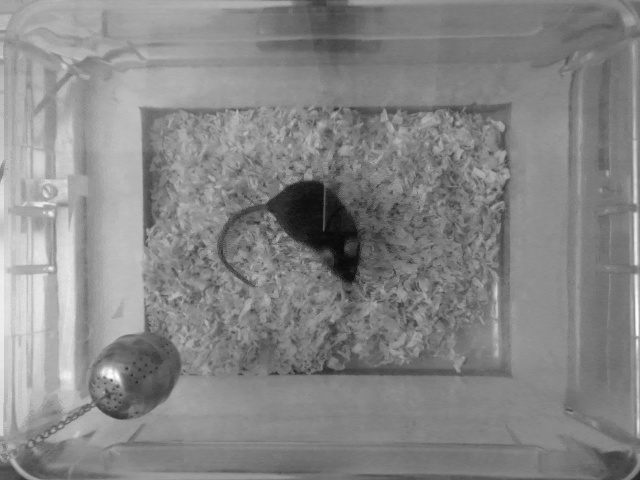mice: (206, 179, 361, 290)
